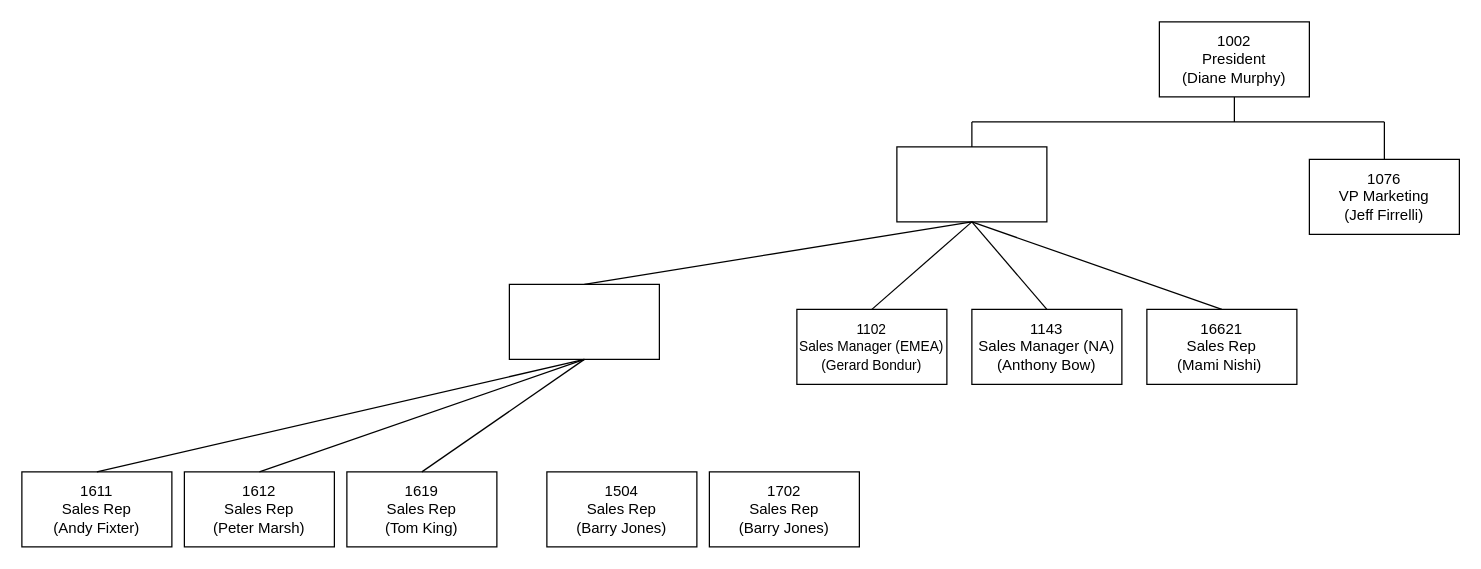
Image size: 1481x569. Some labels were removed from this diagram. Each missing label, with the centre of its shape:
1056 VP Sales (Marry Patterson): pixel 971 184
1088 Sales Manager (APAC) (William Patterson): pixel 583 321
